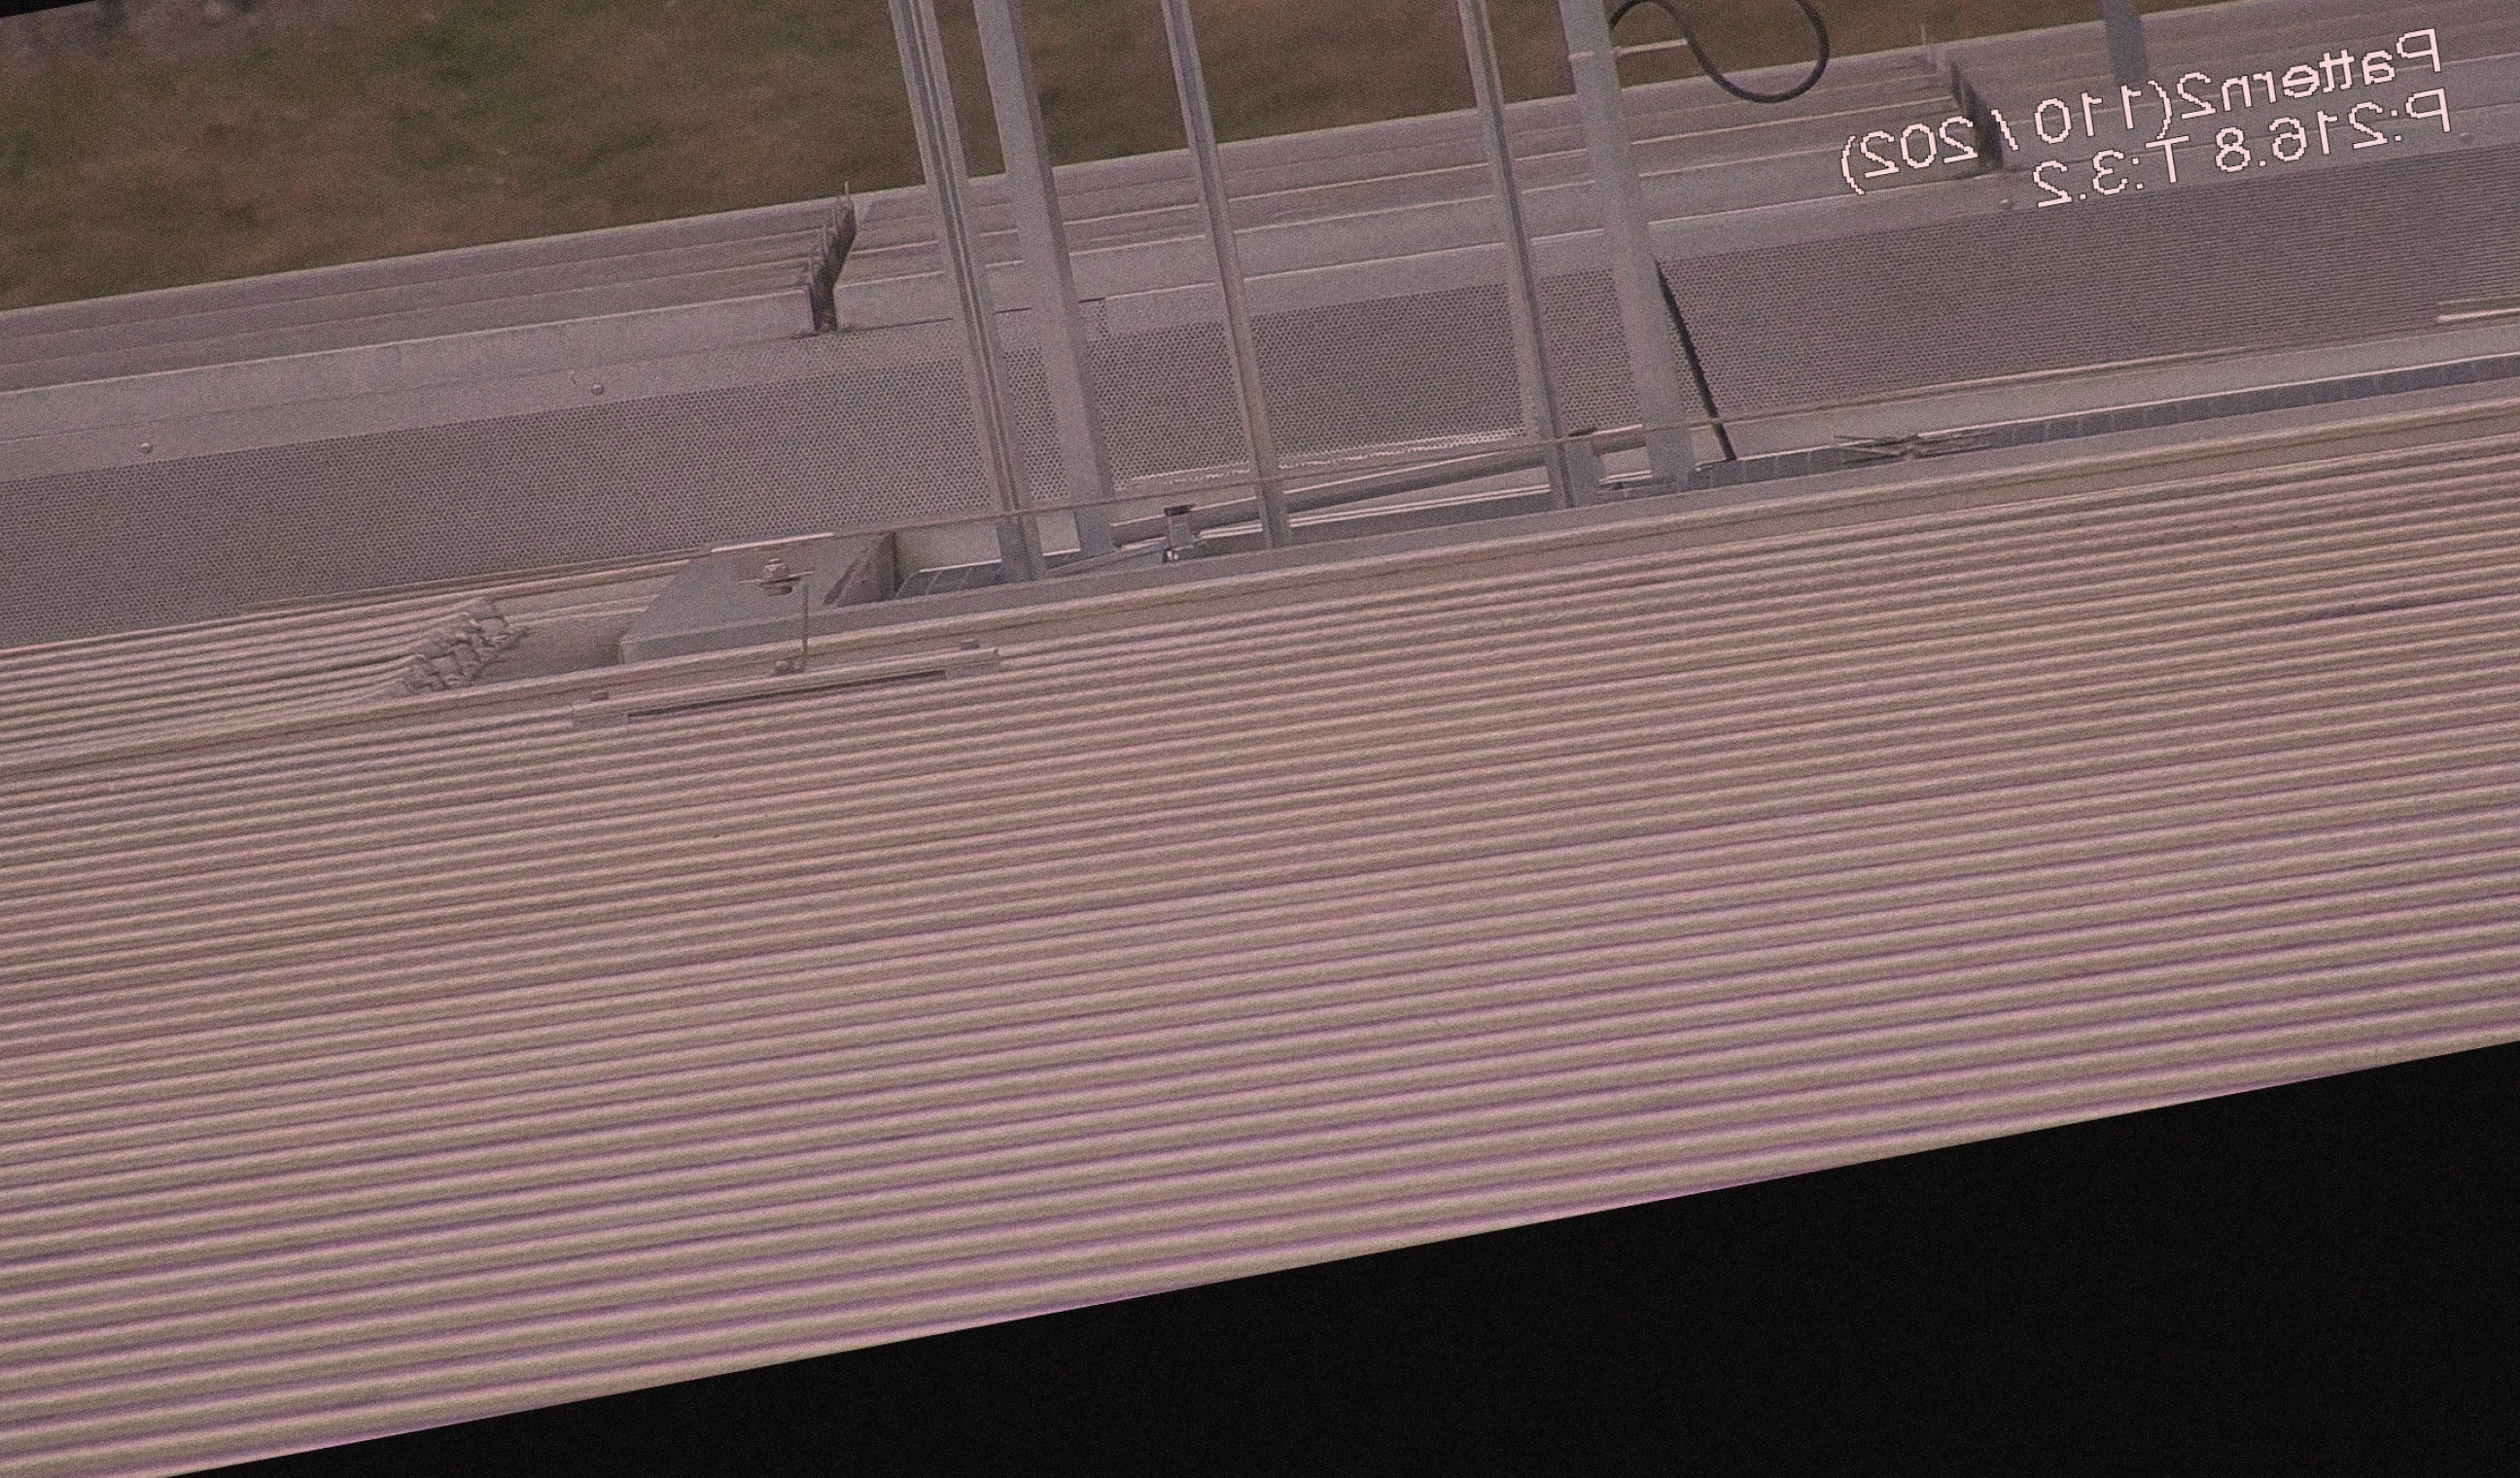Other: (767, 171, 890, 338)
